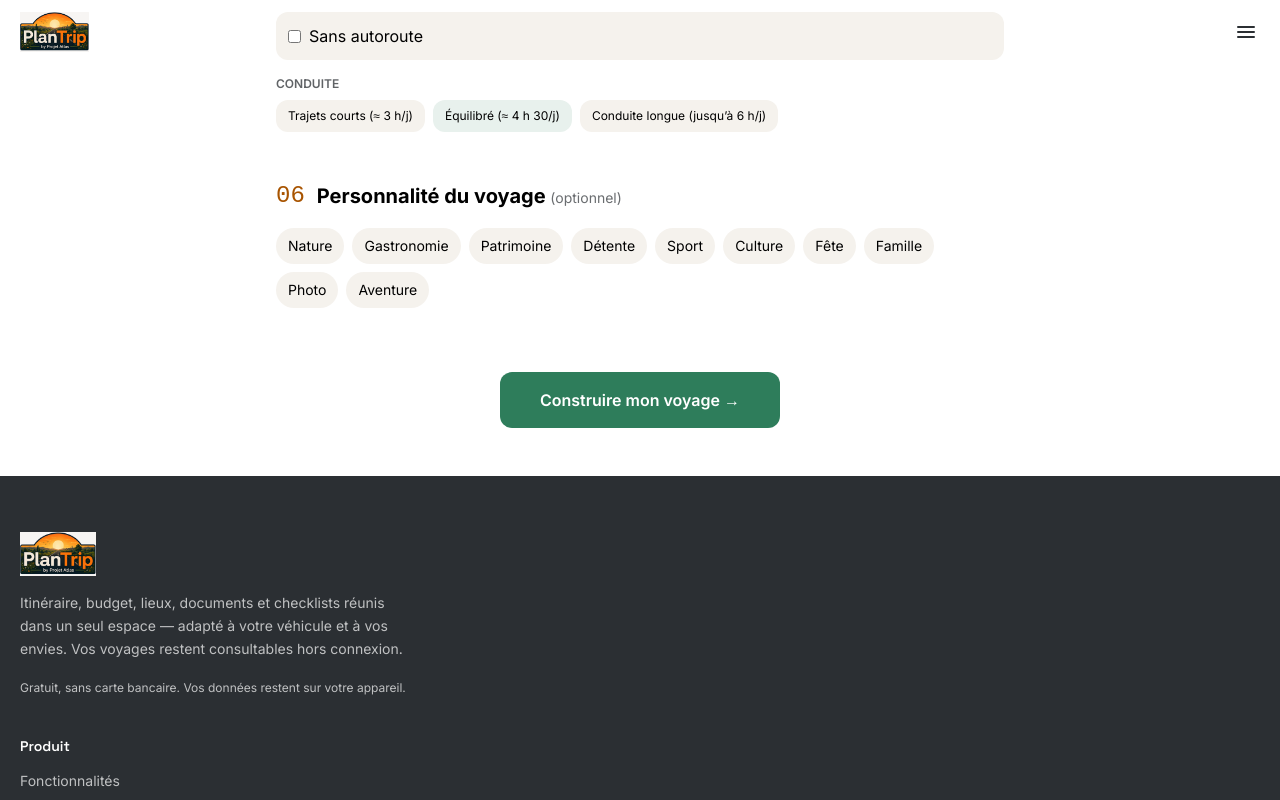
it: validation du formulaire › annonce les informations manquantes au clic sur « Construire mon voyage »
(page scrolled)
Step 1. Click the button "Construire mon voyage →" → (640, 400), box [500, 372, 780, 428]
(page scrolled)
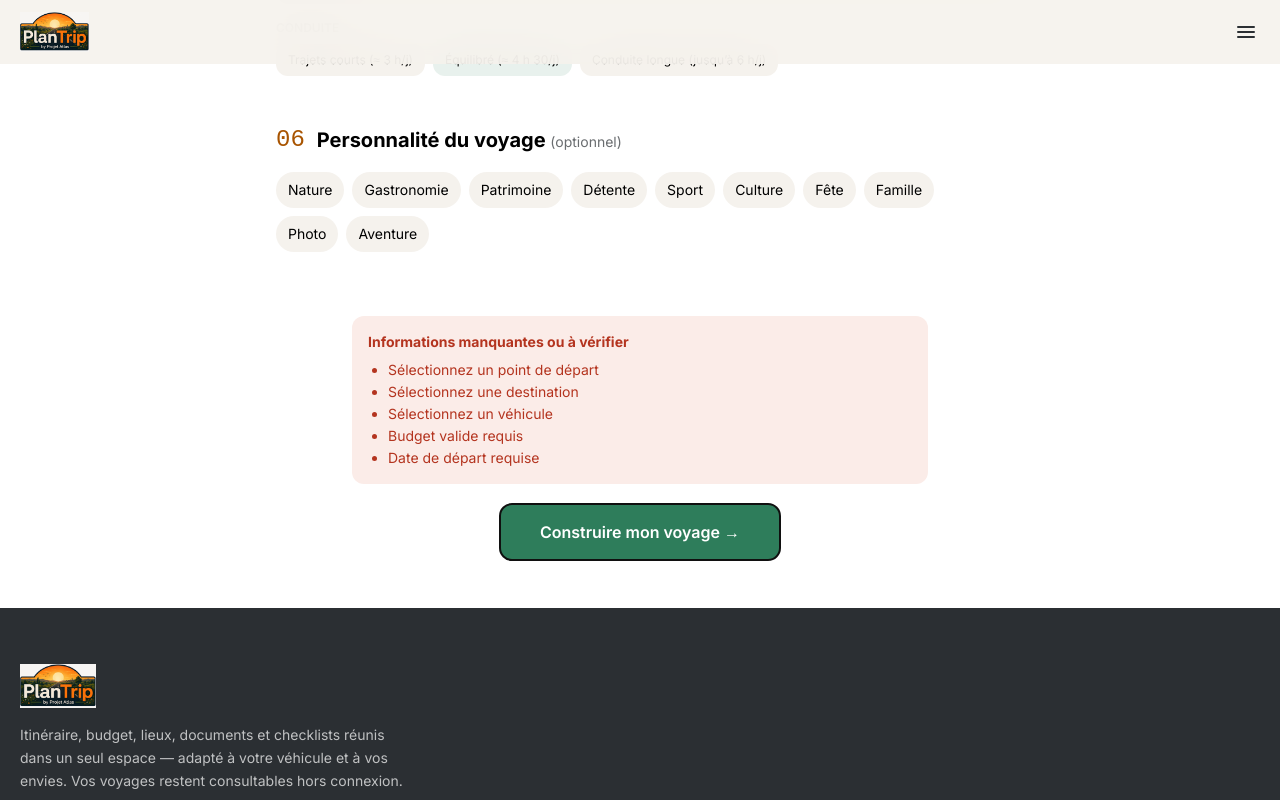
Now the message shows "Informations manquantes", box [368, 333, 629, 350]
Now the message shows "point de départ", box [388, 361, 599, 378]
Now the message shows "destination", box [388, 383, 579, 400]
